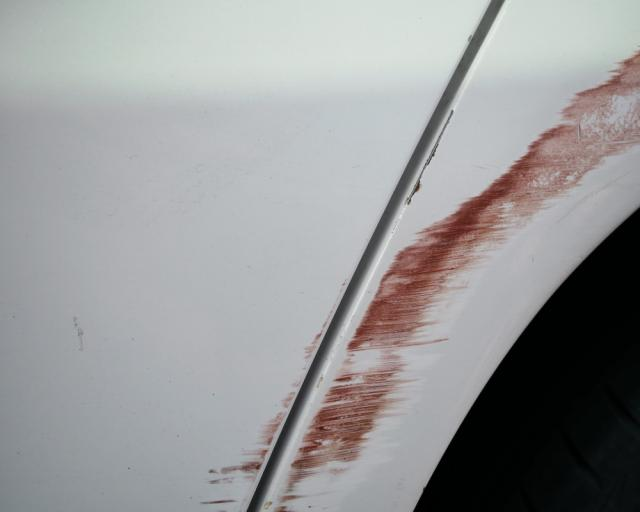scratch: (264, 45, 640, 512), (191, 276, 347, 512)
